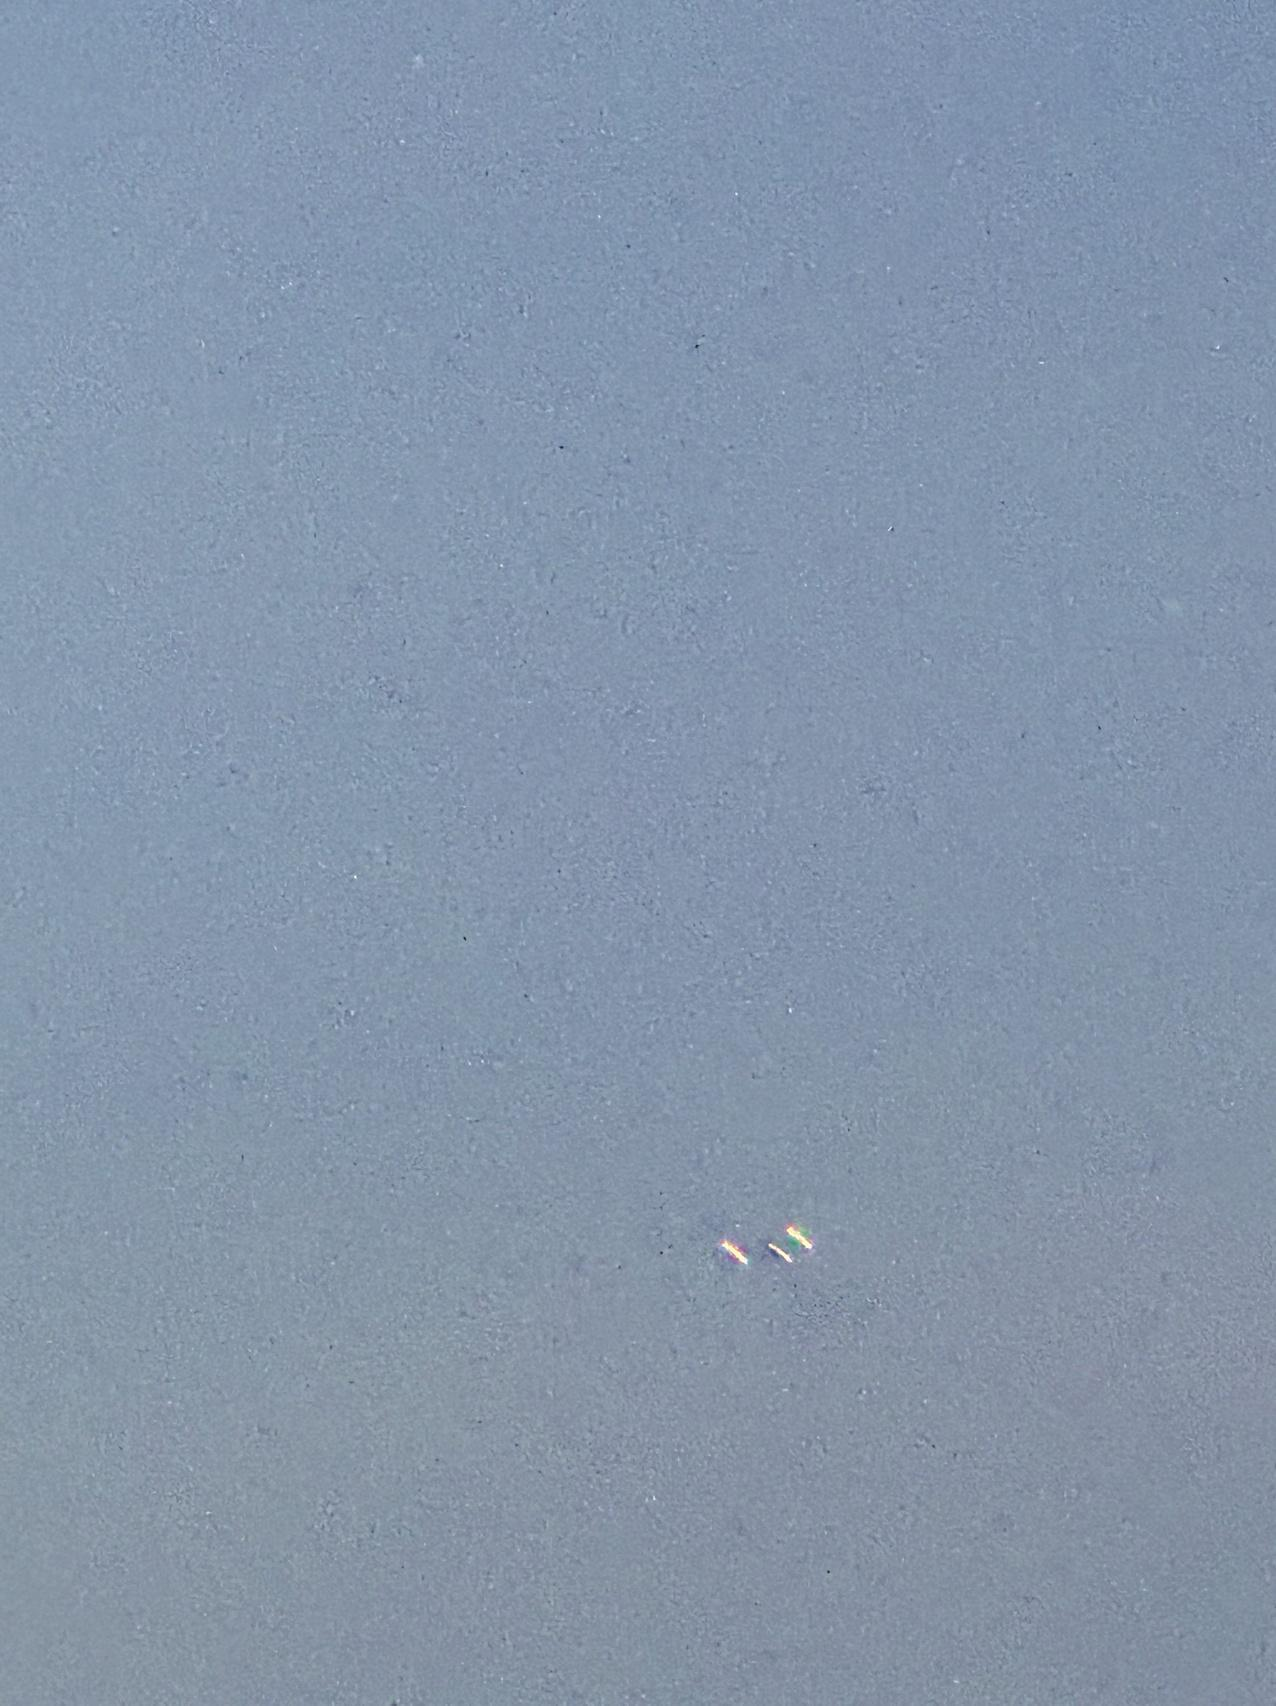Plane: (685, 1205, 844, 1285)
